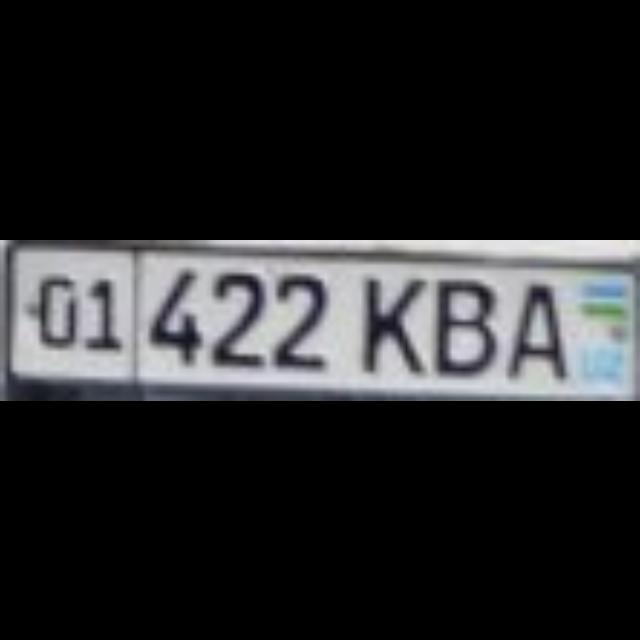0: (34, 268, 70, 342)
1: (80, 274, 116, 342)
2: (208, 268, 260, 360), (271, 268, 323, 360)
4: (144, 262, 196, 354)
A: (501, 274, 559, 372)
B: (432, 274, 490, 372)
K: (357, 274, 415, 366)
